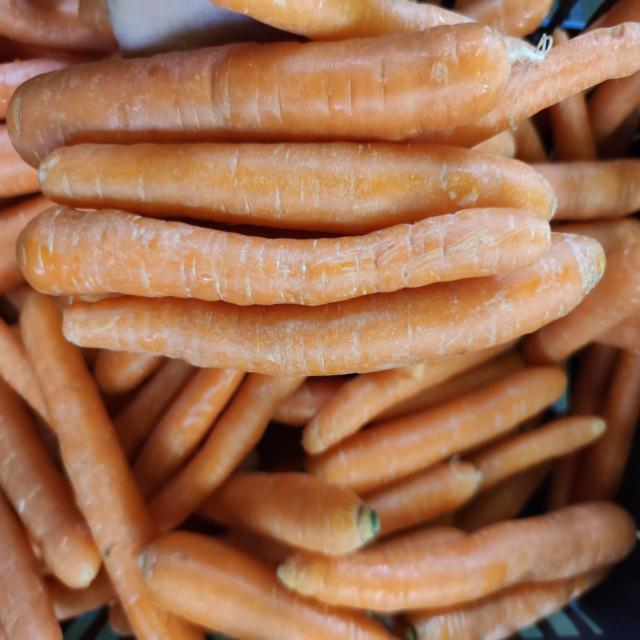Carrot: (21, 206, 546, 296), (41, 142, 562, 212)
